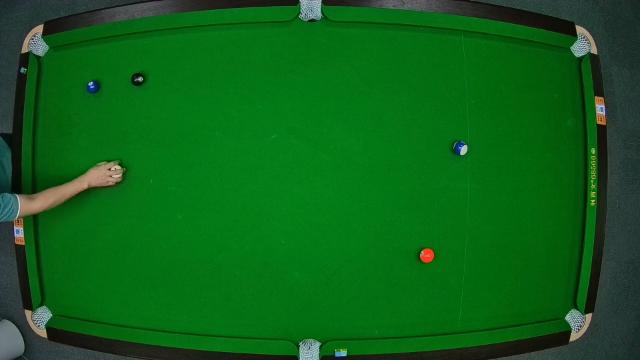bag1: (28, 34, 46, 54)
bag2: (298, 0, 324, 20)
bag3: (574, 35, 592, 57)
bag4: (32, 307, 50, 329)
bag5: (298, 340, 320, 360)
bag6: (565, 308, 585, 332)
ball10: (454, 139, 468, 156)
ball2: (87, 79, 101, 95)
ball5: (418, 246, 434, 264)
ball8: (130, 72, 146, 88)
